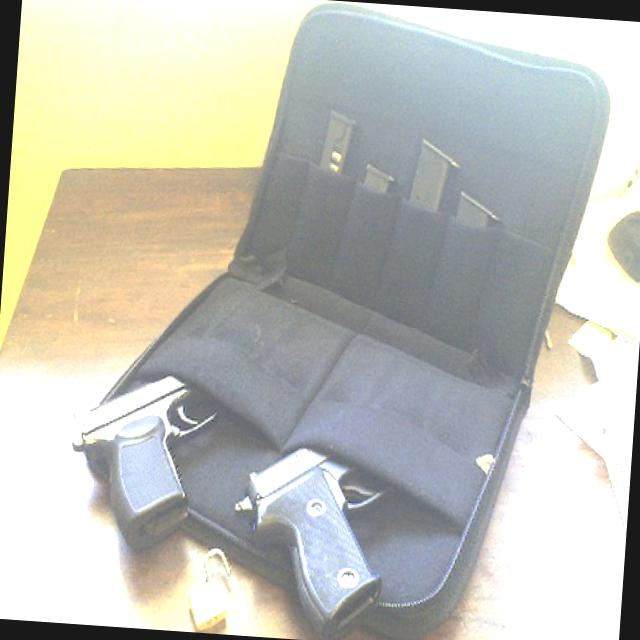handgun: (224, 412, 402, 626), (66, 340, 226, 560)
